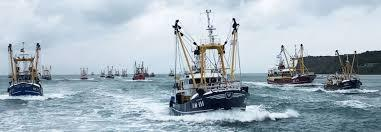Ship: (170, 11, 248, 116), (267, 44, 319, 86), (8, 38, 44, 98), (328, 47, 366, 93), (129, 58, 149, 82), (42, 64, 53, 83), (107, 63, 117, 82), (81, 65, 92, 82)
